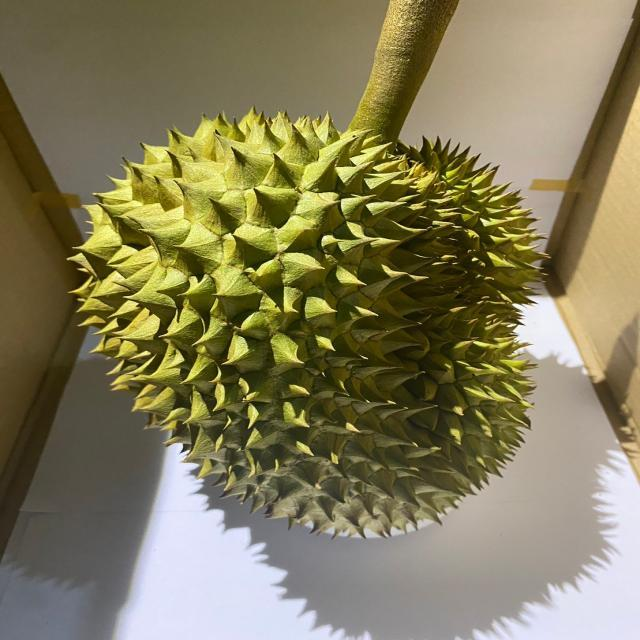immature: (69, 105, 554, 542)
